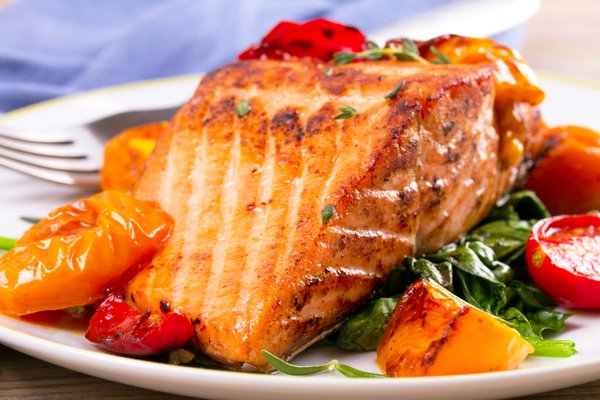burger: (0, 123, 104, 190)
soup: (111, 25, 539, 371)
